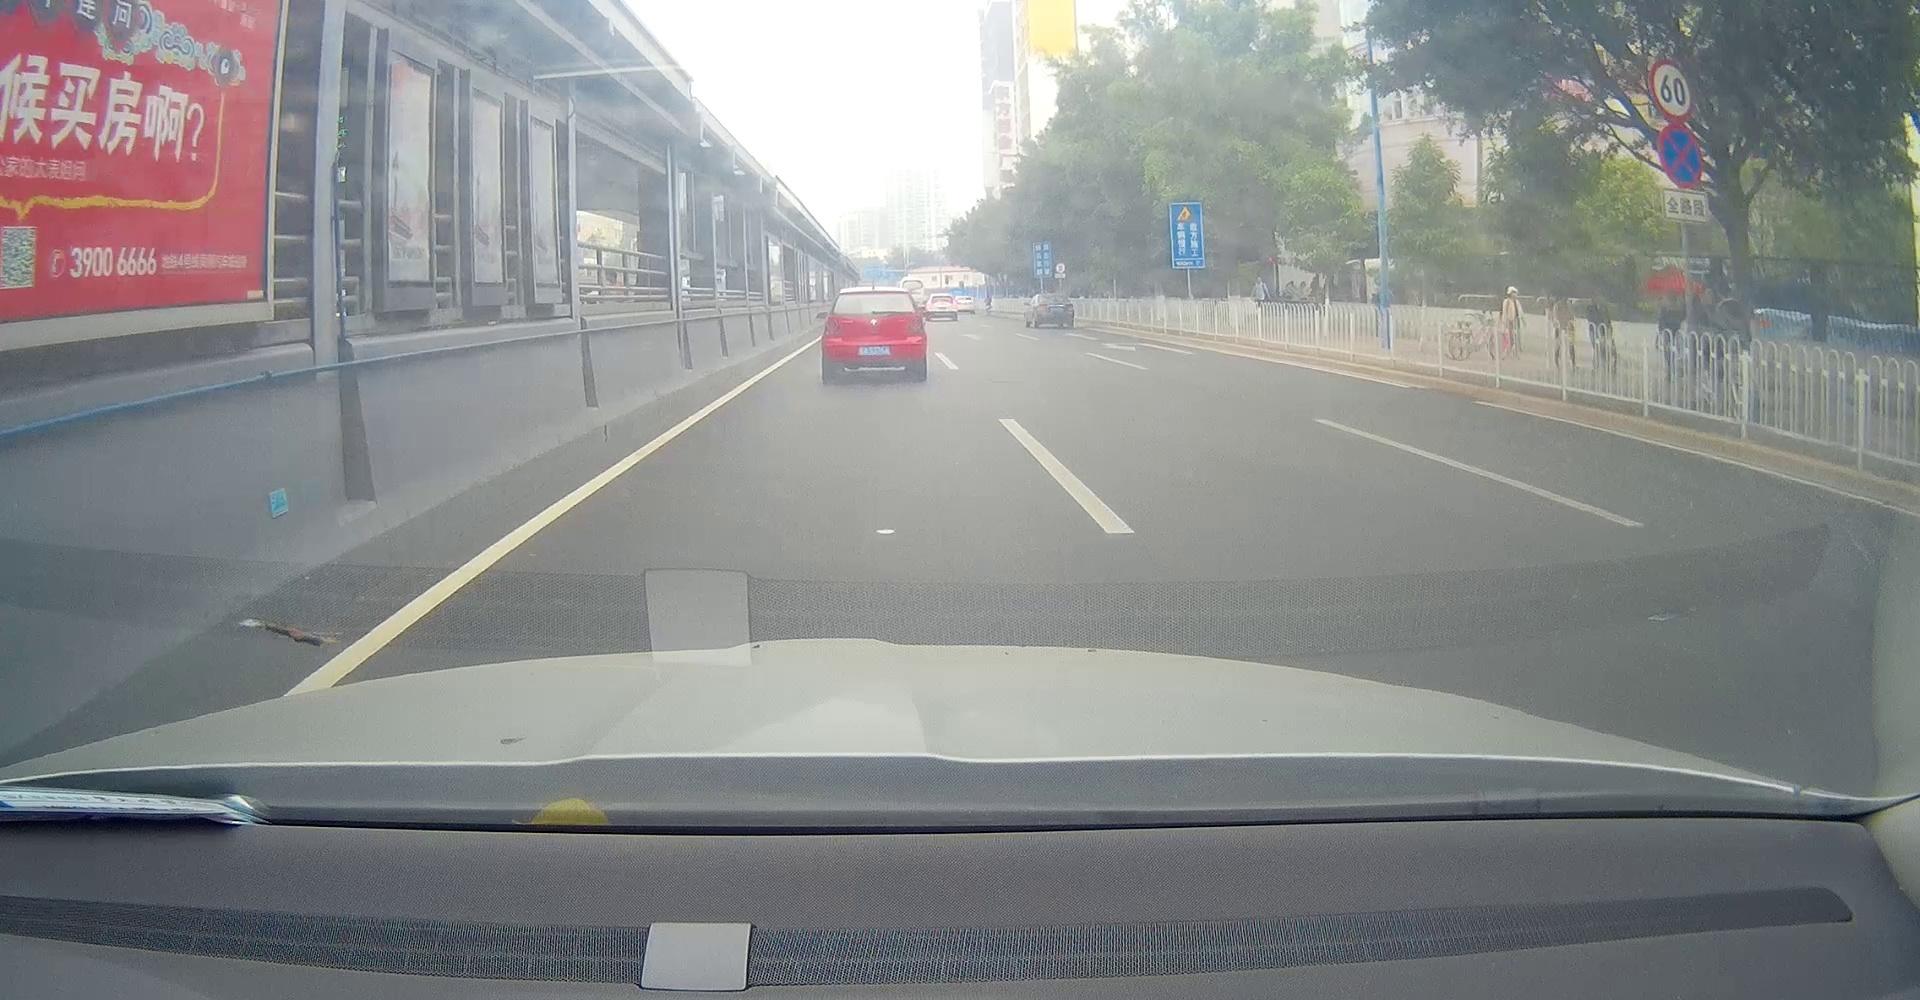L_light: (823, 316, 839, 336)
R_light: (909, 317, 924, 336)
T_light: (866, 292, 881, 296)
day-no: (820, 286, 928, 382)
